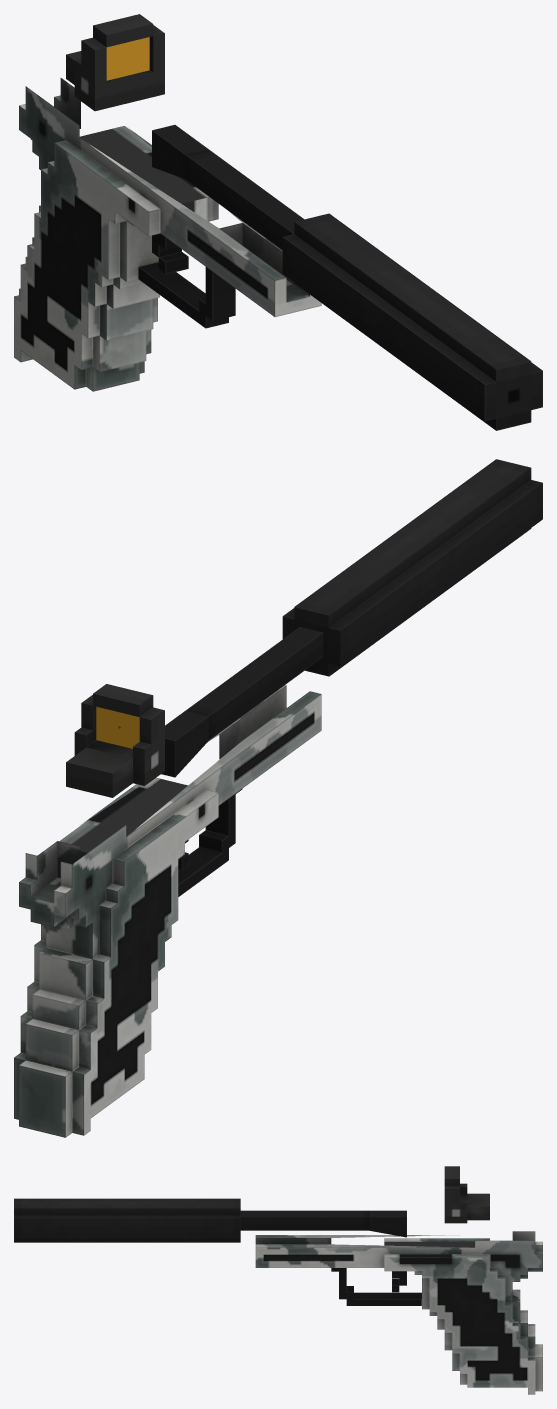
The model's file is RD_USP_SNOW.glb.
The picture shows the model from 3 angles, top to bottom: view 1: azimuth 30°, elevation 25°; view 2: azimuth 150°, elevation 25°; view 3: azimuth 270°, elevation 25°; orthographic projection. The views are drawn at different scales.
Parts seen in each view (by area): view 1: USP, SILENCER_5X5, SCOPE_TRIJICON; view 2: USP, SILENCER_5X5, SCOPE_TRIJICON; view 3: USP, SILENCER_5X5, SCOPE_TRIJICON.
Part boxes in pixels (left/top/right/bottom): USP: left=14, top=78, right=321, bottom=391; SILENCER_5X5: left=282, top=213, right=542, bottom=430; SCOPE_TRIJICON: left=66, top=14, right=164, bottom=111; USP: left=14, top=627, right=323, bottom=1137; SILENCER_5X5: left=282, top=459, right=542, bottom=676; SCOPE_TRIJICON: left=66, top=684, right=164, bottom=797; USP: left=240, top=1210, right=542, bottom=1394; SILENCER_5X5: left=14, top=1198, right=240, bottom=1242; SCOPE_TRIJICON: left=444, top=1166, right=489, bottom=1223.
Size of what is drawn, in the model's own units: 0.0591 by 0.3051 by 0.689.
Materials: 4 (4 with a texture image).
